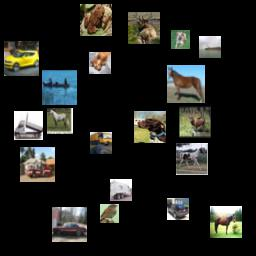automobile: (4, 41, 39, 76), (52, 207, 87, 242), (167, 198, 189, 220)
bird: (100, 204, 119, 223)
cat: (89, 52, 111, 74)
deer: (179, 106, 211, 138), (128, 12, 160, 44)
dog: (134, 111, 166, 143), (171, 30, 190, 49)
frog: (80, 4, 112, 36)
ship: (42, 70, 77, 105), (199, 36, 221, 58)
truck: (20, 147, 55, 182), (14, 111, 43, 140), (110, 179, 132, 201), (90, 132, 112, 154)
